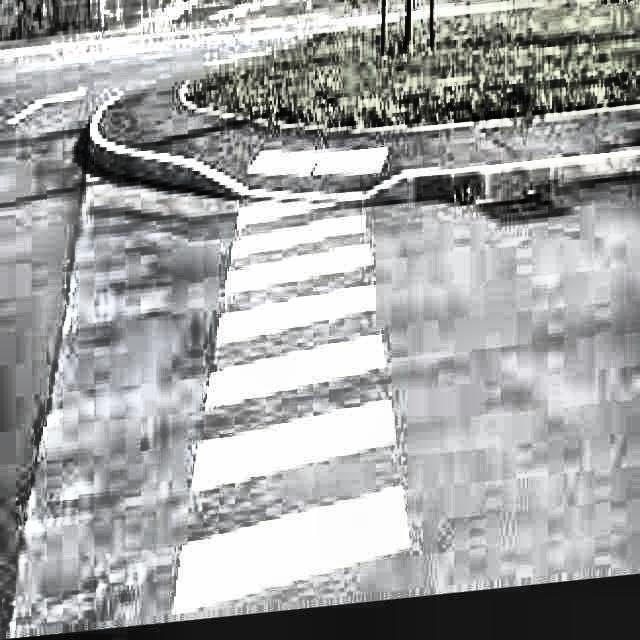faixa de pedestre: (156, 204, 416, 615)
